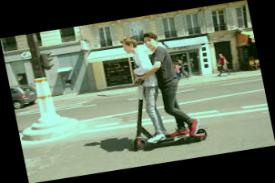multiple: (108, 26, 209, 153)
